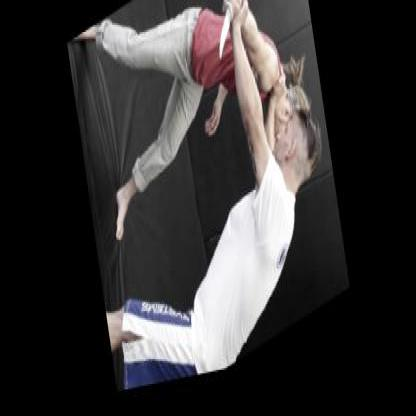knife: (208, 0, 248, 75)
